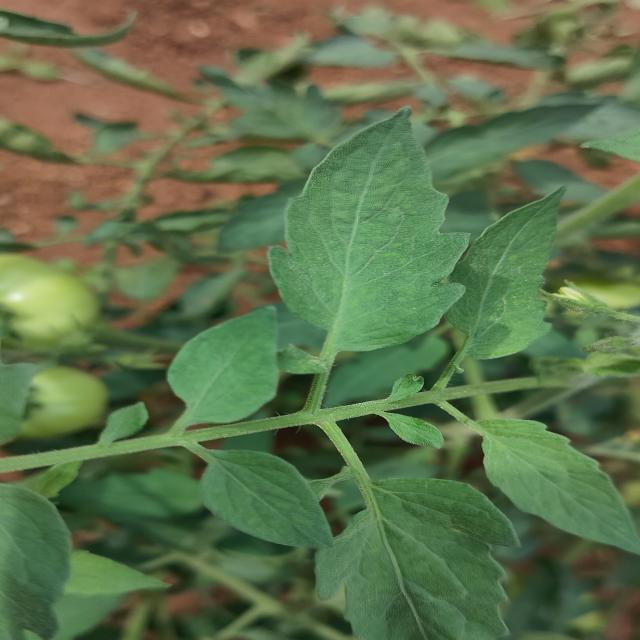tomato_healthy: (268, 107, 467, 373), (315, 478, 516, 640), (417, 169, 576, 371), (472, 419, 640, 553), (166, 307, 278, 433), (194, 448, 332, 550)
